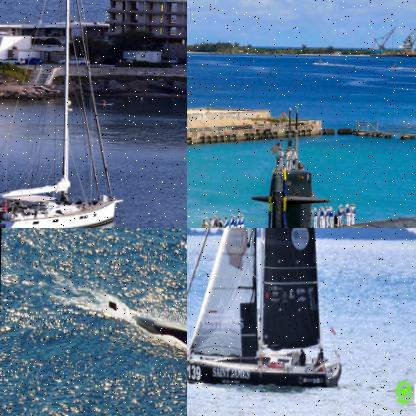Sails Boat: (0, 0, 128, 227), (187, 228, 348, 389)
Submarine: (187, 103, 415, 227), (107, 267, 186, 390)
